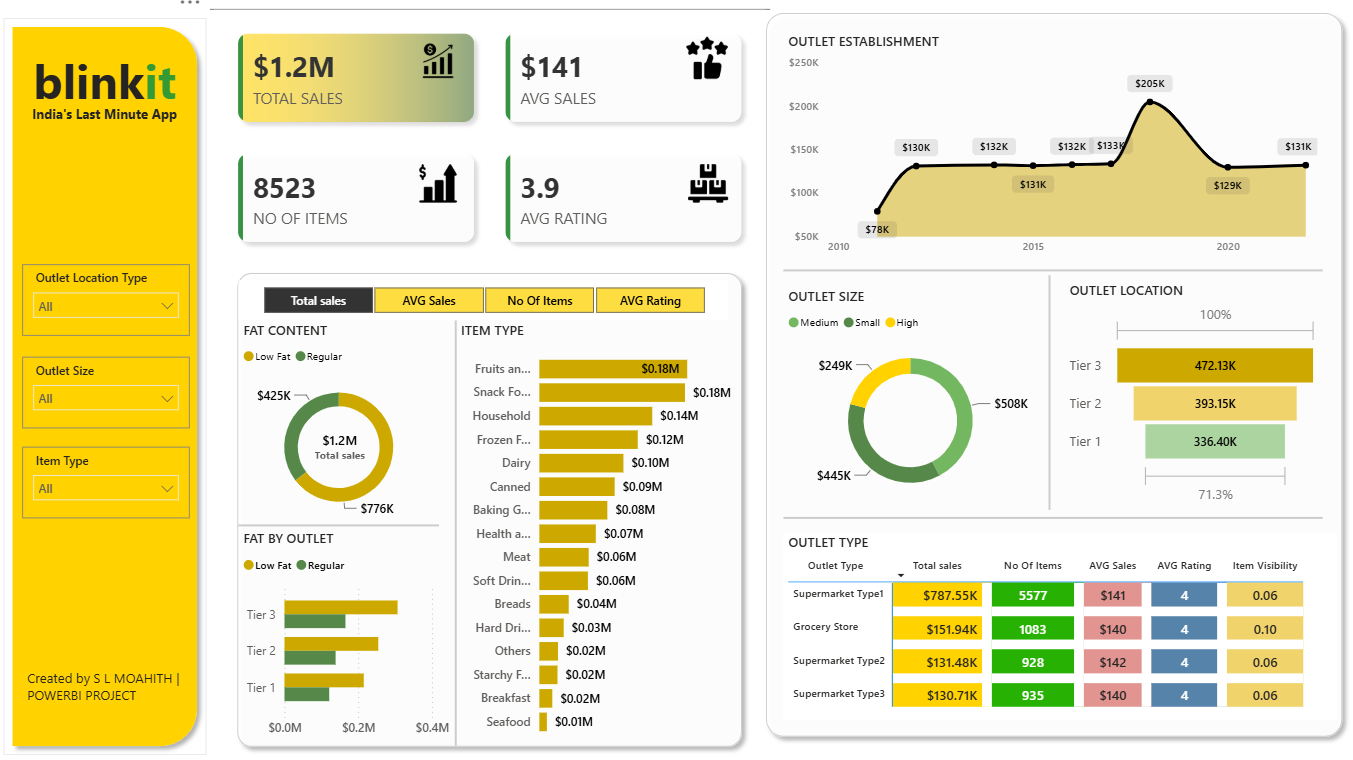

What the dashboard file says about the page in this screenshot:
{"tool":"powerbi","page":{"name":"Page 1","canvas":[1400,800],"ordinal":0},"visuals":[{"type":"shape","box":[18,26,206,750],"z":0},{"type":"textbox","box":[42.9,51.4,181.4,95.7],"z":1000},{"type":"textbox","box":[41.4,110,160,37.1],"z":2000},{"type":"cardVisual","fields":{"Data":["BlinkIT Grocery Data.Total sales","BlinkIT Grocery Data.AVG Sales","BlinkIT Grocery Data.No Of Items","BlinkIT Grocery Data.AVG Rating"]},"box":[227.1,11.4,570,270],"z":3000},{"type":"image","box":[411.4,51.4,98.6,35.7],"z":4000},{"type":"image","box":[624.3,44.3,218.6,42.9],"z":5000},{"type":"image","box":[685.7,172.9,98.6,41.4],"z":6000},{"type":"image","box":[411.4,172.9,98.6,41.4],"z":7000},{"type":"shape","box":[247.1,275.7,531.4,500],"z":8000},{"type":"donutChart","title":"FAT CONTENT","fields":{"Y":["BlinkIT Grocery Data.Total sales"],"Category":["BlinkIT Grocery Data.Item Fat Content"]},"box":[257.1,332.9,204.3,212.9],"z":9000},{"type":"slicer","fields":{"Values":["Metrics.Metrics"]},"box":[257.1,292.9,498.6,40],"z":10000},{"type":"cardVisual","fields":{"Data":["BlinkIT Grocery Data.Total sales"]},"box":[297.6,431.1,113.2,61],"z":11000},{"type":"clusteredBarChart","title":"FAT BY OUTLET","fields":{"Y":["BlinkIT Grocery Data.Total sales"],"Category":["BlinkIT Grocery Data.Outlet Location Type"],"Series":["BlinkIT Grocery Data.Item Fat Content"]},"box":[257.1,545.7,220,220],"z":12000},{"type":"shape","box":[257.1,525.7,204.3,32.9],"z":13000},{"type":"shape","box":[462.9,332.9,30,432.9],"z":14000},{"type":"barChart","title":"ITEM TYPE","fields":{"Y":["BlinkIT Grocery Data.Total sales"],"Category":["BlinkIT Grocery Data.Item Type"]},"box":[478.6,332.9,287.1,432.9],"z":15000},{"type":"shape","box":[784.3,11.4,604.3,754.3],"z":16000},{"type":"lineChart","title":"OUTLET ESTABLISHMENT","fields":{"Y":["BlinkIT Grocery Data.Total sales"],"Category":["BlinkIT Grocery Data.Outlet Establishment Year"]},"box":[811.4,40,548.6,235.7],"z":17000},{"type":"shape","box":[811.4,265.7,548.6,32.9],"z":18000},{"type":"donutChart","title":"OUTLET SIZE","fields":{"Y":["BlinkIT Grocery Data.Total sales"],"Category":["BlinkIT Grocery Data.Outlet Size"]},"box":[811.4,298.6,258.6,227.1],"z":19000},{"type":"shape","box":[1067.1,287.1,30,238.6],"z":20000},{"type":"funnel","title":"OUTLET LOCATION","fields":{"Category":["BlinkIT Grocery Data.Outlet Location Type"],"Y":["Sum(BlinkIT Grocery Data.Sales)"]},"box":[1097.1,292.9,262.9,232.9],"z":21000},{"type":"shape","box":[811.4,517.1,548.6,32.9],"z":22000},{"type":"pivotTable","title":"OUTLET TYPE","fields":{"Rows":["BlinkIT Grocery Data.Outlet Type"],"Values":["BlinkIT Grocery Data.Total sales","BlinkIT Grocery Data.No Of Items","BlinkIT Grocery Data.AVG Sales","BlinkIT Grocery Data.AVG Rating","Avg(BlinkIT Grocery Data.Item Visibility)"]},"box":[811.4,550,562.9,190],"z":23000},{"type":"slicer","fields":{"Values":["BlinkIT Grocery Data.Outlet Location Type"]},"box":[36.2,276.2,170,72.5],"z":24000},{"type":"slicer","fields":{"Values":["BlinkIT Grocery Data.Outlet Size"]},"box":[36.2,370,170,72.5],"z":25000},{"type":"slicer","fields":{"Values":["BlinkIT Grocery Data.Item Type"]},"box":[36.2,461.2,170,72.5],"z":26000},{"type":"textbox","box":[36.7,683.3,180,56.7],"z":26002}]}

Visuals, with their boxes in screenshot pixels (x1, y1, x2, y2), scaled from the page's 1400x800 canvas onto the 1353x760 screenshot:
shape: pyautogui.locateOnScreen(17, 25, 216, 737)
textbox: pyautogui.locateOnScreen(41, 49, 217, 140)
textbox: pyautogui.locateOnScreen(40, 104, 195, 140)
cardVisual - BlinkIT Grocery Data.Total sales x BlinkIT Grocery Data.AVG Sales: pyautogui.locateOnScreen(219, 11, 770, 267)
image: pyautogui.locateOnScreen(398, 49, 493, 83)
image: pyautogui.locateOnScreen(603, 42, 815, 83)
image: pyautogui.locateOnScreen(663, 164, 758, 204)
image: pyautogui.locateOnScreen(398, 164, 493, 204)
shape: pyautogui.locateOnScreen(239, 262, 752, 737)
"FAT CONTENT" donutChart: pyautogui.locateOnScreen(248, 316, 446, 519)
slicer - Metrics.Metrics: pyautogui.locateOnScreen(248, 278, 730, 316)
cardVisual - BlinkIT Grocery Data.Total sales: pyautogui.locateOnScreen(288, 410, 397, 467)
"FAT BY OUTLET" clusteredBarChart: pyautogui.locateOnScreen(248, 518, 461, 727)
shape: pyautogui.locateOnScreen(248, 499, 446, 531)
shape: pyautogui.locateOnScreen(447, 316, 476, 728)
"ITEM TYPE" barChart: pyautogui.locateOnScreen(463, 316, 740, 728)
shape: pyautogui.locateOnScreen(758, 11, 1342, 727)
"OUTLET ESTABLISHMENT" lineChart: pyautogui.locateOnScreen(784, 38, 1314, 262)
shape: pyautogui.locateOnScreen(784, 252, 1314, 284)
"OUTLET SIZE" donutChart: pyautogui.locateOnScreen(784, 284, 1034, 499)
shape: pyautogui.locateOnScreen(1031, 273, 1060, 499)
"OUTLET LOCATION" funnel: pyautogui.locateOnScreen(1060, 278, 1314, 500)
shape: pyautogui.locateOnScreen(784, 491, 1314, 522)
"OUTLET TYPE" pivotTable: pyautogui.locateOnScreen(784, 522, 1328, 703)
slicer - BlinkIT Grocery Data.Outlet Location Type: pyautogui.locateOnScreen(35, 262, 199, 331)
slicer - BlinkIT Grocery Data.Outlet Size: pyautogui.locateOnScreen(35, 352, 199, 420)
slicer - BlinkIT Grocery Data.Item Type: pyautogui.locateOnScreen(35, 438, 199, 507)
textbox: pyautogui.locateOnScreen(35, 649, 209, 703)
